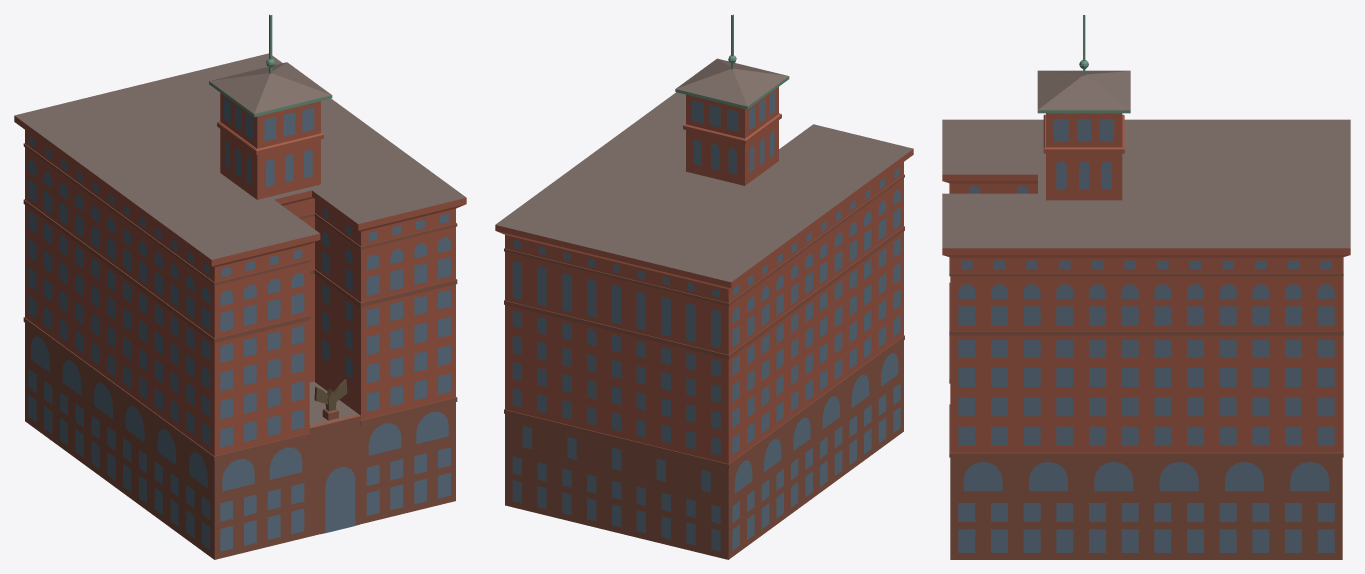
Rendered from kc-new-york-life-building.glb.
The picture shows the model from 3 angles, left to right: view 1: azimuth 30°, elevation 25°; view 2: azimuth 150°, elevation 25°; view 3: azimuth 270°, elevation 25°; orthographic projection. The views are drawn at different scales.
Parts seen in each view (by area): view 1: New York Life Building; view 2: New York Life Building; view 3: New York Life Building.
Boxes of the visible parts, x1=… form: New York Life Building: x1=14, y1=14, x2=466, y2=559; New York Life Building: x1=495, y1=14, x2=913, y2=559; New York Life Building: x1=942, y1=15, x2=1350, y2=559.
Bounding box in the file's own units: 37.6 × 66 × 50.4.
